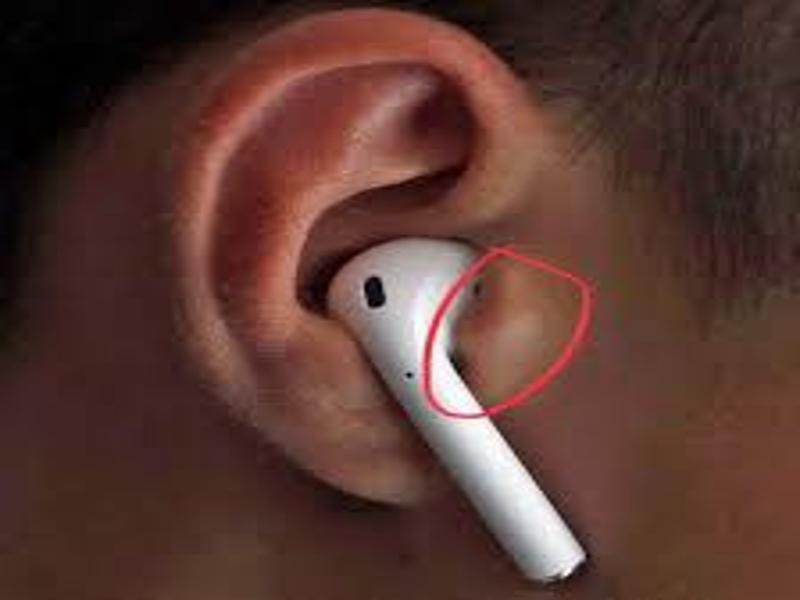headphone: (330, 230, 592, 585)
